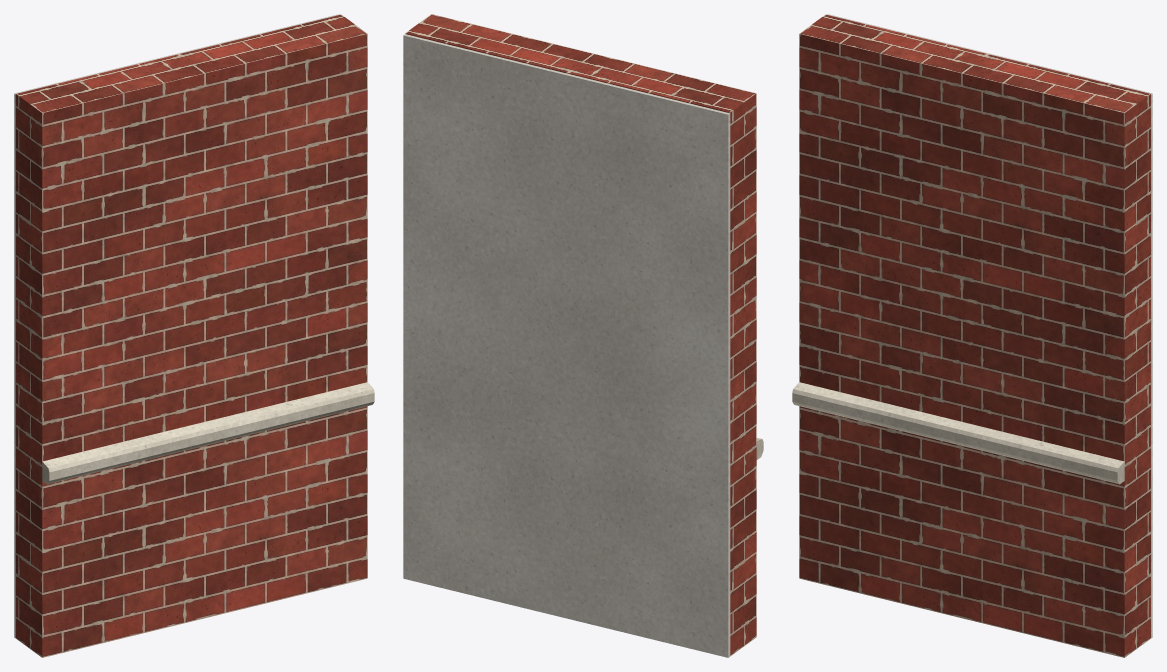
The model's file is o_u2_plain.glb.
3 renders of one model, left to right at view 1: azimuth 30°, elevation 25°; view 2: azimuth 150°, elevation 25°; view 3: azimuth 330°, elevation 25°, orthographic.
Visible parts, largest first — view 1: o_u2_plain_brick, o_u2_plain_trim, o_u2_plain_plaster; view 2: o_u2_plain_plaster, o_u2_plain_brick; view 3: o_u2_plain_brick, o_u2_plain_trim, o_u2_plain_plaster.
Part boxes in pixels (<box>): o_u2_plain_brick: <box>16,14,367,657</box>; o_u2_plain_trim: <box>42,382,374,484</box>; o_u2_plain_plaster: <box>14,14,340,638</box>; o_u2_plain_plaster: <box>403,34,730,657</box>; o_u2_plain_brick: <box>405,14,756,656</box>; o_u2_plain_brick: <box>799,14,1150,657</box>; o_u2_plain_trim: <box>792,382,1124,484</box>; o_u2_plain_plaster: <box>826,14,1152,638</box>.
Size of the model in its own units: 2 by 3.2 by 0.375.
Materials: 3 (3 with a texture image).
